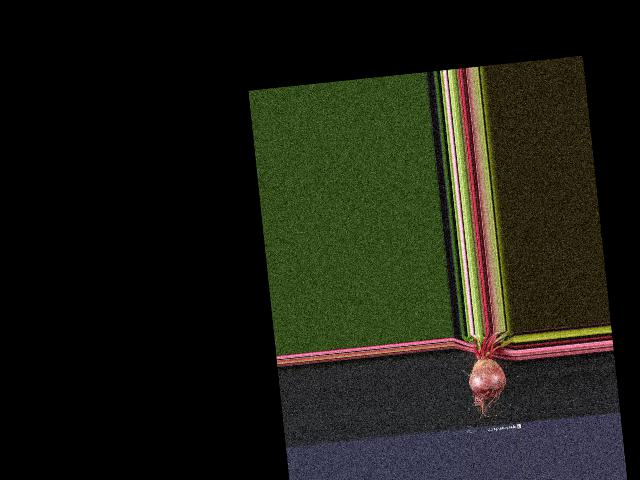beet: (463, 330, 522, 422)
